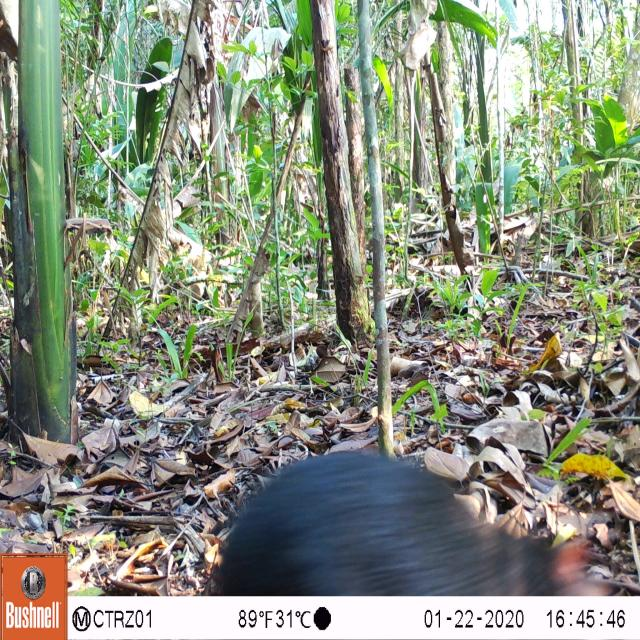Black Agouti: (202, 436, 594, 602)
